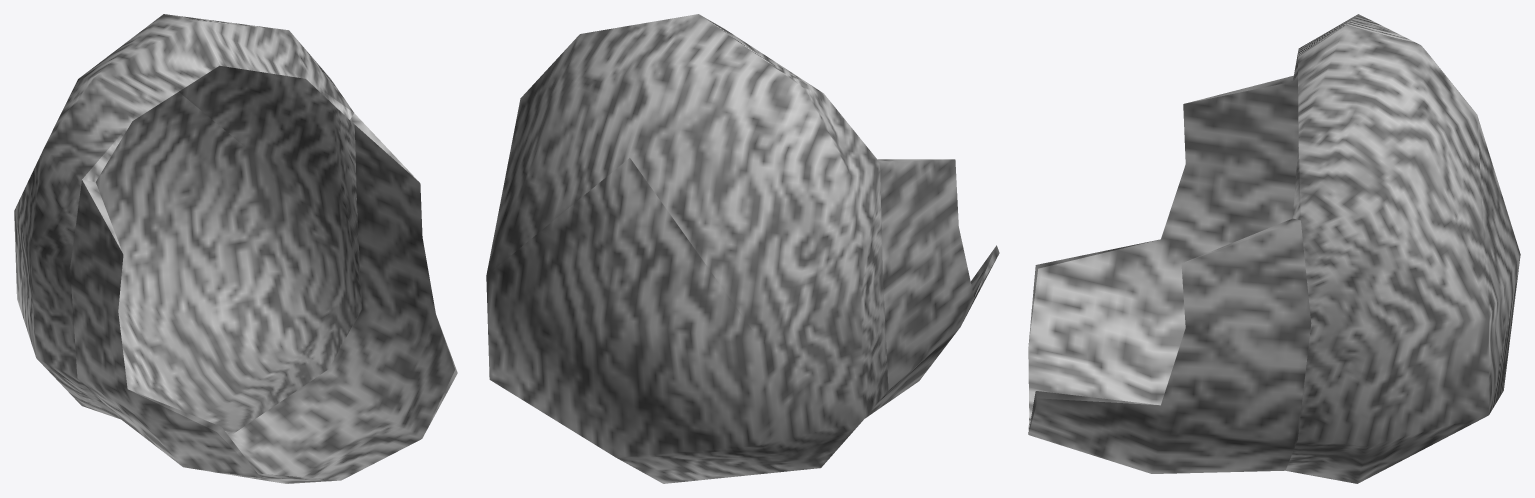
File: Wig_Kate_Hair_TopMop.fbx
3 renders of one model, left to right at view 1: azimuth 30°, elevation 25°; view 2: azimuth 150°, elevation 25°; view 3: azimuth 270°, elevation 25°, orthographic. The views are drawn at different scales.
Visible parts, largest first — view 1: BoxOfJars003; view 2: BoxOfJars003; view 3: BoxOfJars003.
Part boxes in pixels (x1,y1,x2,y2): BoxOfJars003: (14, 14, 457, 483); BoxOfJars003: (486, 14, 999, 483); BoxOfJars003: (1028, 14, 1520, 483).
Bounding box in the file's own units: 10.23 × 12.62 × 12.83.
